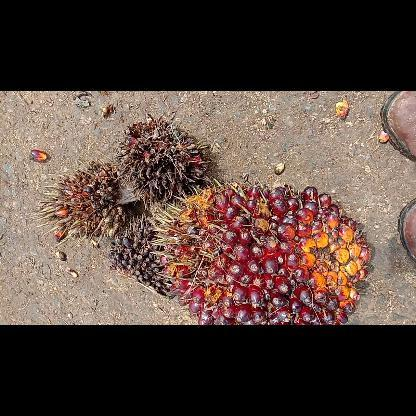TBS abnormal: (111, 112, 219, 204), (32, 158, 136, 246), (108, 212, 170, 298)
TBS masak: (149, 176, 375, 324)
